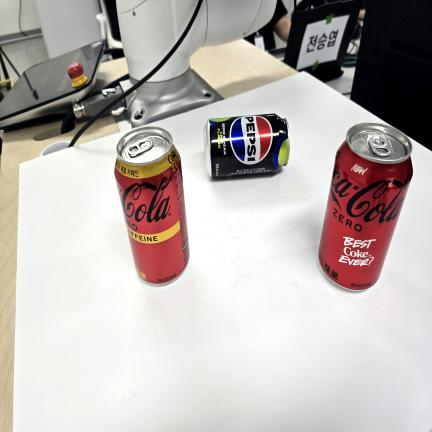can_coke_decaf: (114, 125, 194, 289)
can_coke_zero: (315, 121, 416, 295)
can_pepsi_zero: (201, 109, 290, 183)
